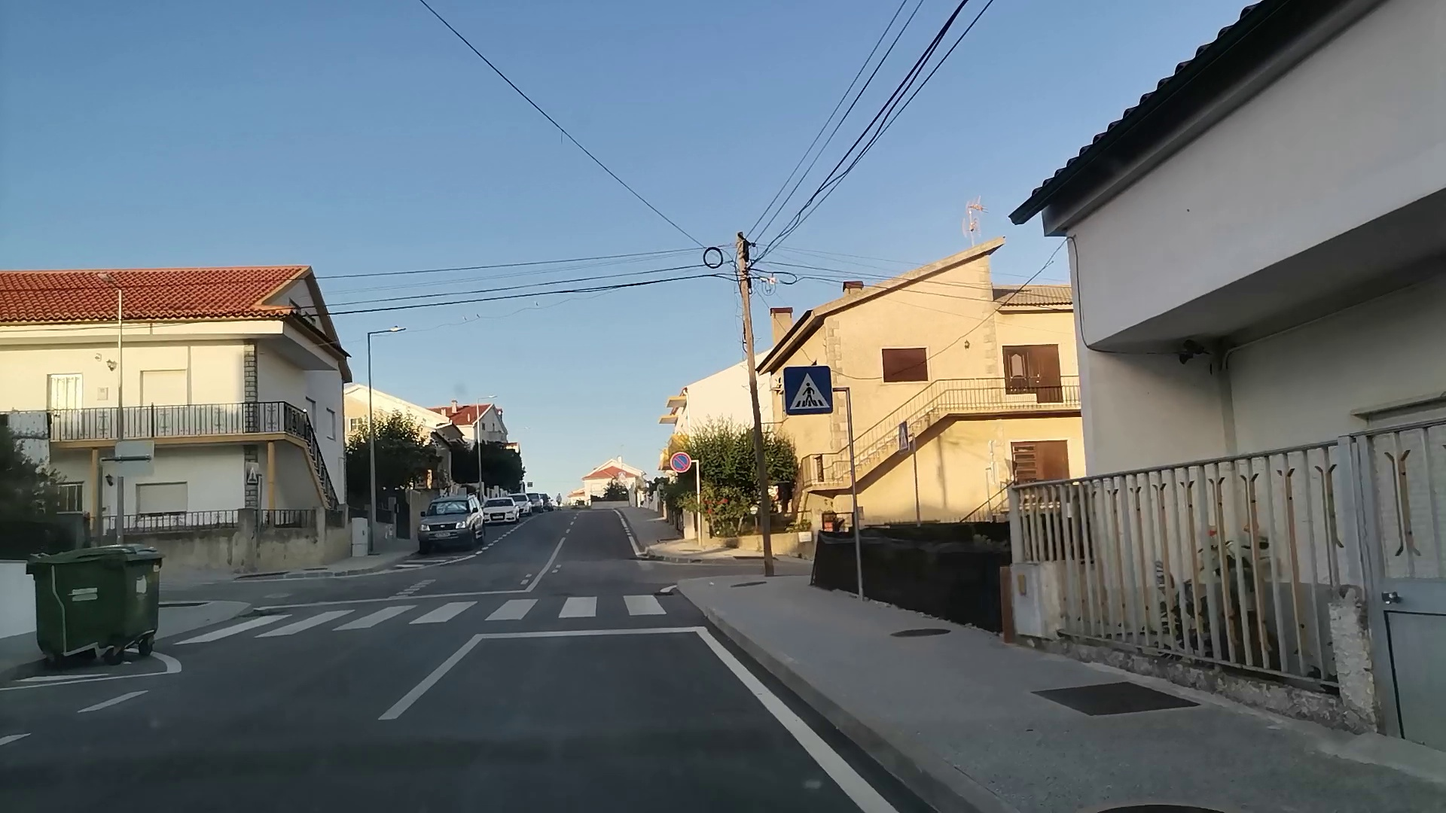Stairs: (213, 593, 686, 645)
